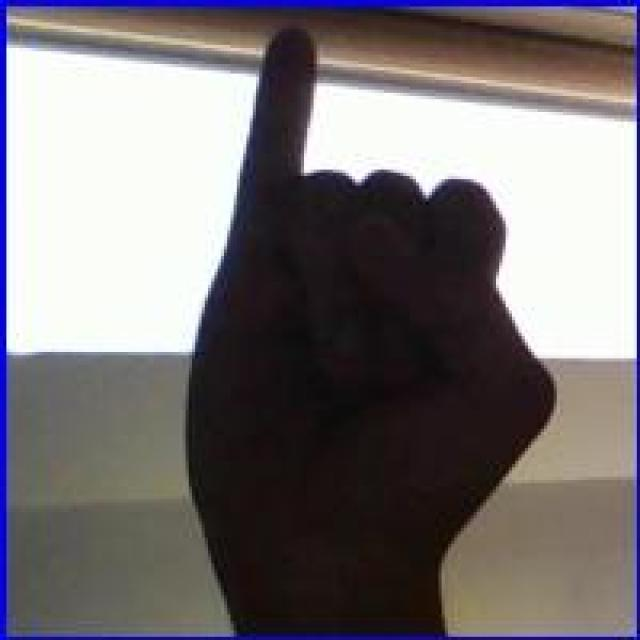I: (180, 25, 562, 620)
